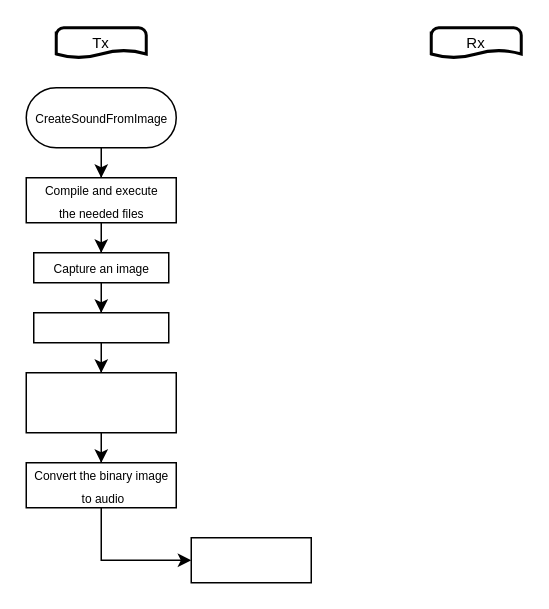
This 549x609 diagram has some shape labels left out. The centre of each missing label's shape, as x and y in pixels:
Compress the image: [100,327]
Convert the compressed image to bits/binary: [100,402]
Transmit audio to receiver (play the audio file): [250,559]
